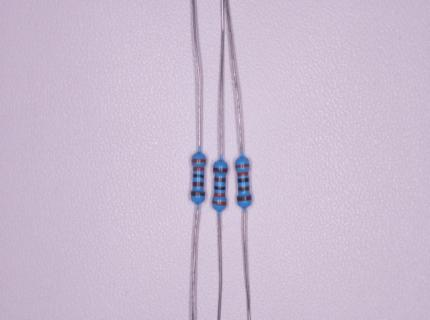Black band: (193, 174, 204, 179), (214, 186, 225, 190), (238, 178, 249, 182)
Brown band: (238, 195, 251, 201), (213, 168, 228, 172), (214, 177, 226, 182), (191, 192, 205, 196), (193, 182, 204, 187), (238, 186, 249, 191)
Orange band: (212, 200, 226, 205), (192, 159, 206, 163), (237, 171, 248, 176), (236, 164, 249, 168), (214, 193, 225, 197), (194, 167, 204, 171)
